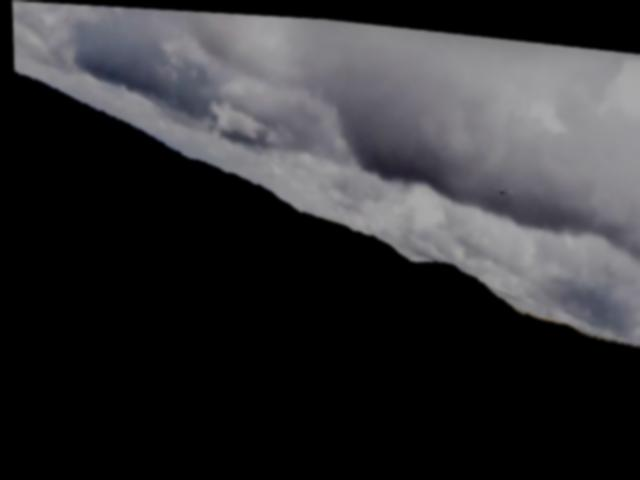iha: (484, 172, 516, 194)
